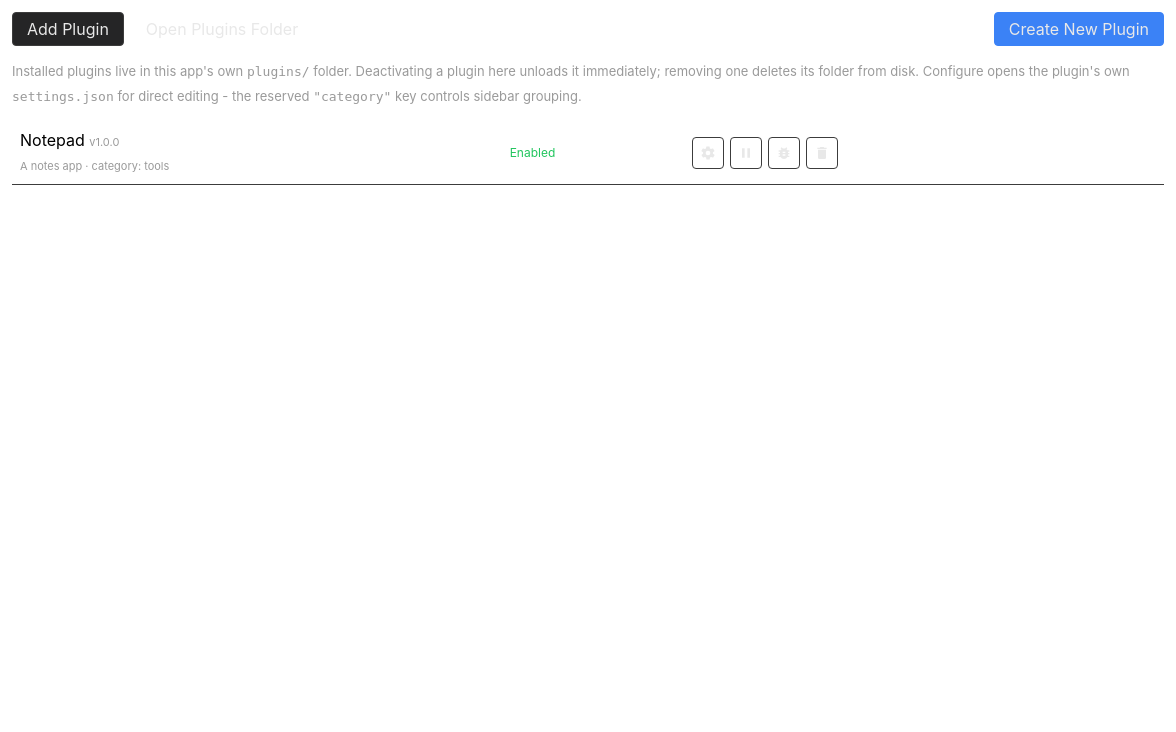
Test case: SettingsPlugins › blocks saving invalid JSON with a client-side error
Check: the text "Enabled" is shown, box [502,122,684,184]
Click the button named "Configure" at (708, 153), box [692,137,724,169]
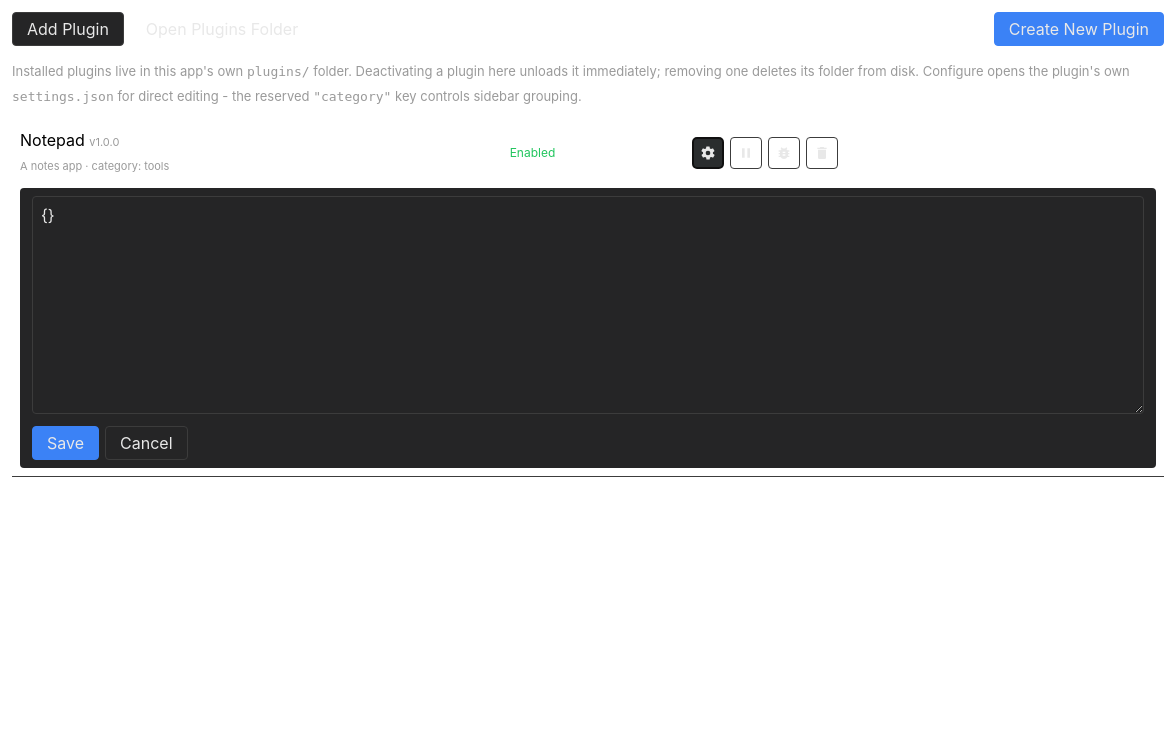
Replace the text in the text box showing "{}" with "not json" at (588, 305), box [32,196,1144,414]
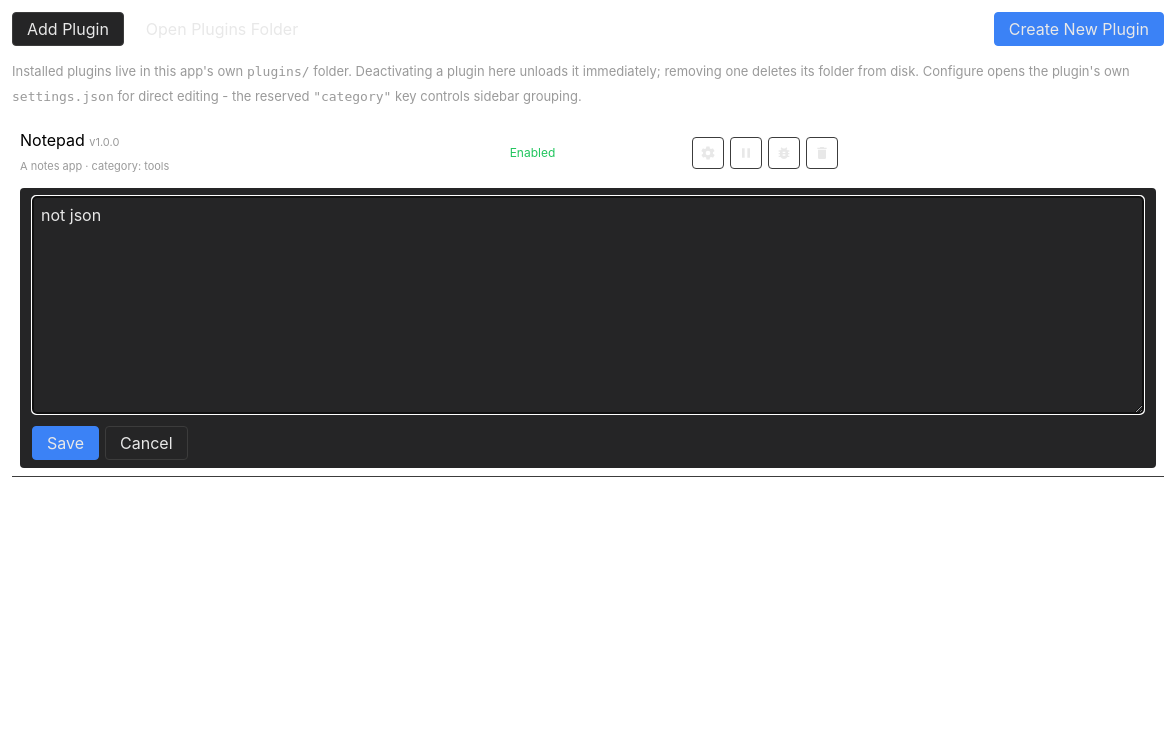
Click the button "Save" at (66, 443), box [32,426,99,460]
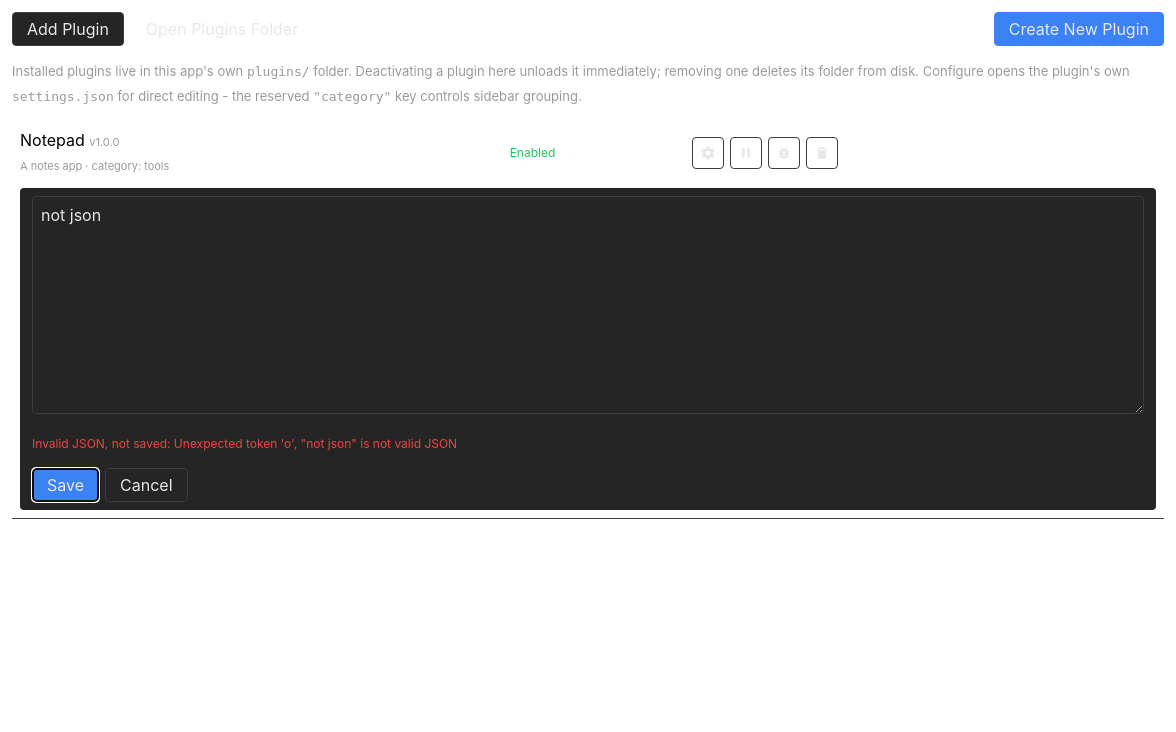
Check: the text "Invalid JSON, not saved" is shown, box [32,436,457,451]
